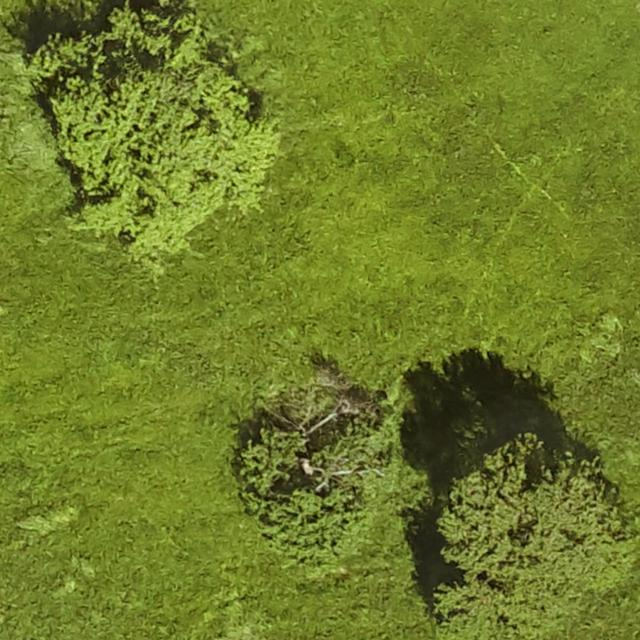tree: (27, 0, 272, 256), (439, 434, 640, 640), (236, 383, 390, 560)
